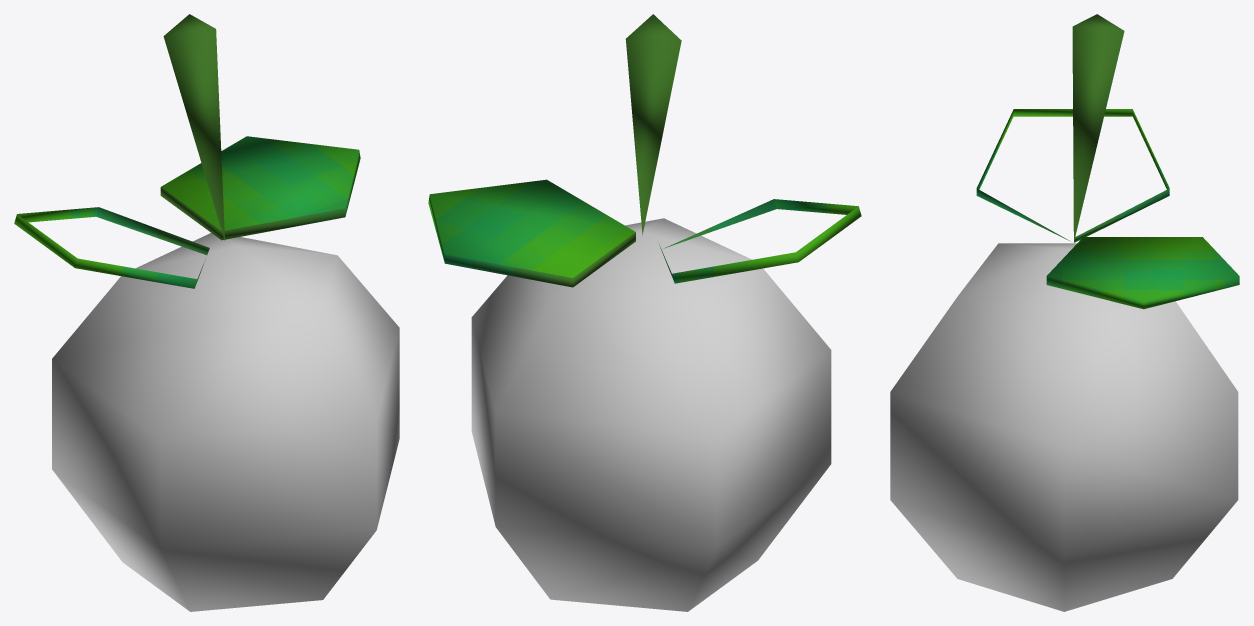
The model's file is fruit1.comp.obj.
The picture shows the model from 3 angles, left to right: view 1: azimuth 30°, elevation 25°; view 2: azimuth 150°, elevation 25°; view 3: azimuth 270°, elevation 25°; orthographic projection. The views are drawn at different scales.
Visible parts, largest first — view 1: fruit1.obj, fruit-stem.obj; view 2: fruit1.obj, fruit-stem.obj; view 3: fruit1.obj, fruit-stem.obj.
Boxes of the visible parts, x1,y1,x2,y2 form: fruit1.obj: [52, 233, 399, 611]; fruit-stem.obj: [14, 14, 360, 288]; fruit1.obj: [471, 218, 831, 611]; fruit-stem.obj: [428, 14, 861, 287]; fruit1.obj: [890, 243, 1238, 611]; fruit-stem.obj: [976, 14, 1239, 309].
Bounding box in the file's own units: 1.06 × 1.65 × 0.9277.
